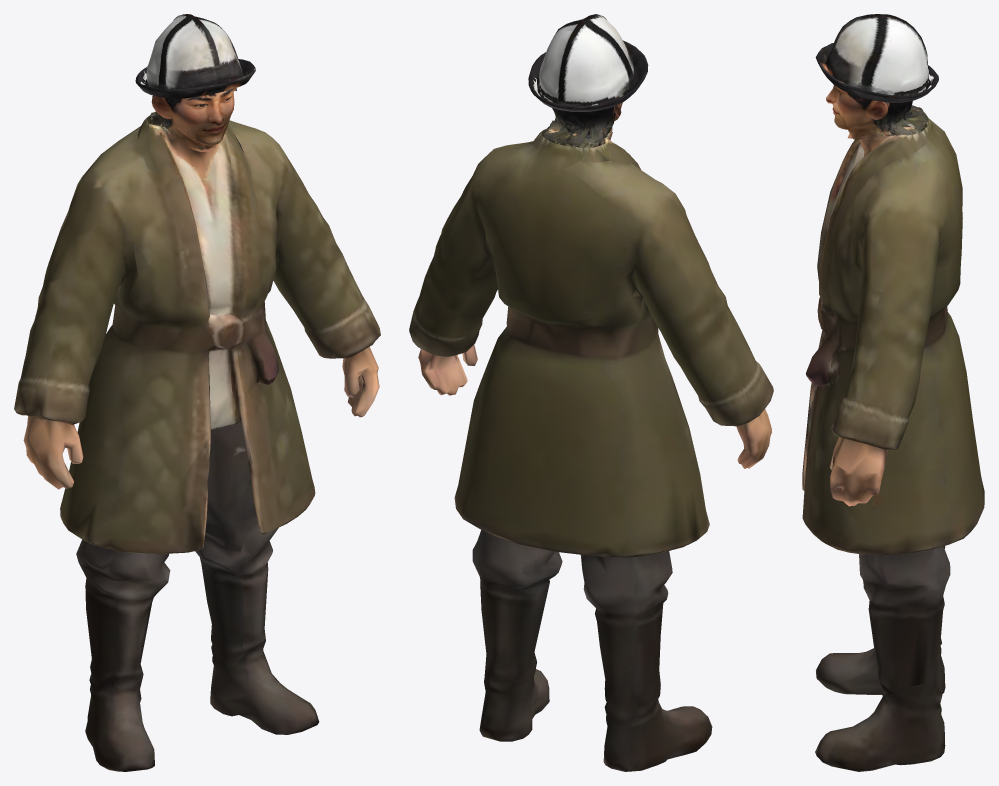
Rendered from herder-erlan.gen.glb.
The picture shows the model from 3 angles, left to right: view 1: azimuth 30°, elevation 25°; view 2: azimuth 150°, elevation 25°; view 3: azimuth 270°, elevation 25°; orthographic projection.
Visible parts, largest first — view 1: herder-erlan.raw; view 2: herder-erlan.raw; view 3: herder-erlan.raw.
Boxes of the visible parts, box(x1,y1,x2,y2) form: herder-erlan.raw: box(14, 14, 380, 771); herder-erlan.raw: box(409, 14, 773, 771); herder-erlan.raw: box(802, 14, 984, 771).
Bounding box in the file's own units: 0.9567 × 1.85 × 0.4318.
1 material, 1 textured.
